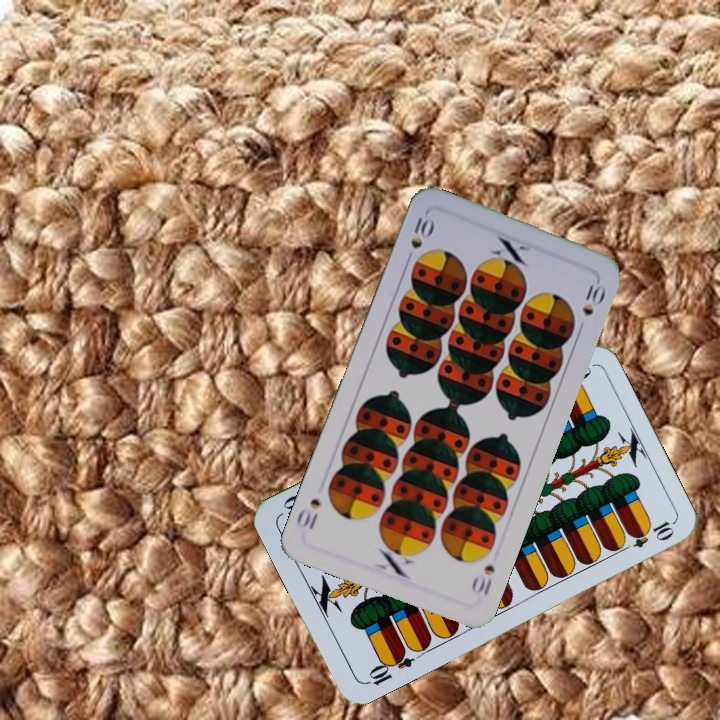E10: (361, 645, 416, 688)
S10: (467, 559, 498, 599), (406, 210, 436, 251)
